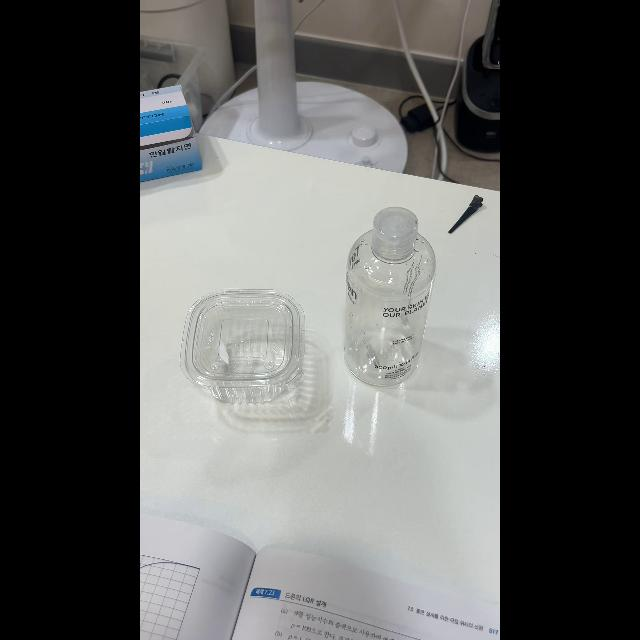clean: (344, 208, 436, 382), (187, 297, 306, 397)
